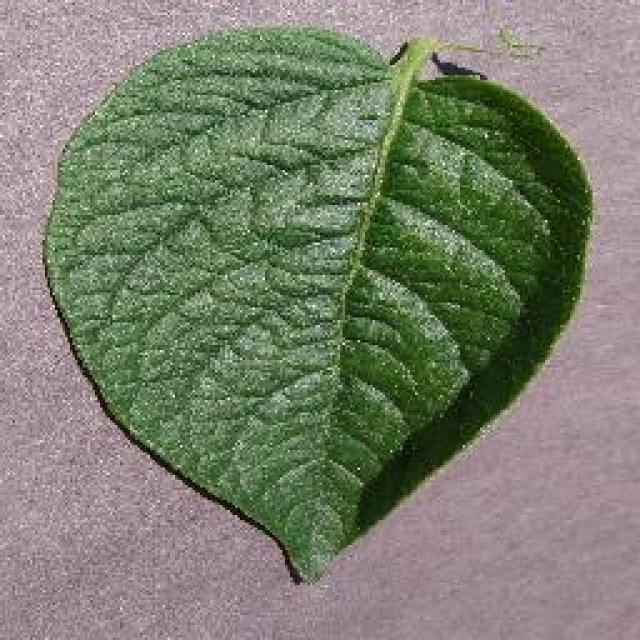Potato___healthy: (44, 22, 596, 591)
